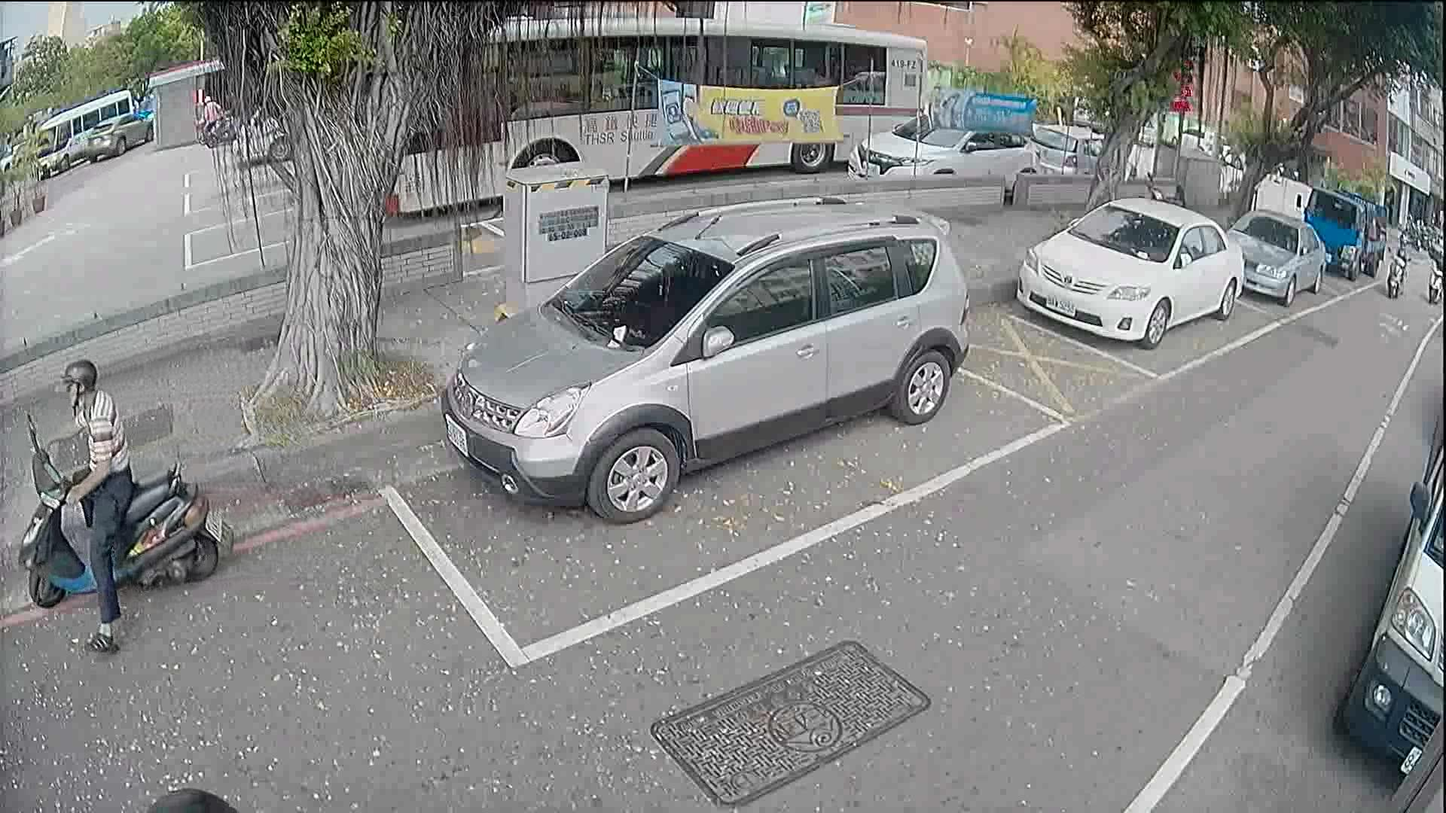person: (43, 351, 145, 657), (137, 780, 242, 812), (200, 92, 224, 130), (1394, 234, 1411, 278)
